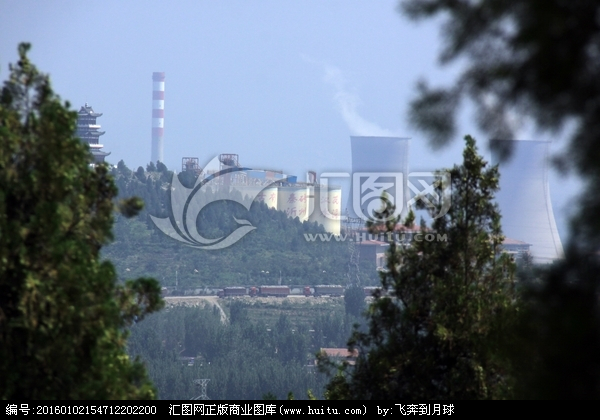dust: (300, 68, 414, 144)
